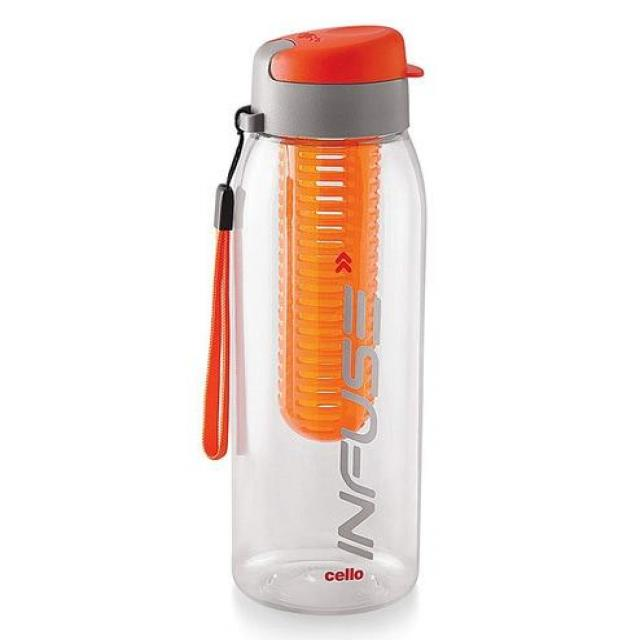plastic_bottle: (193, 21, 459, 620)
